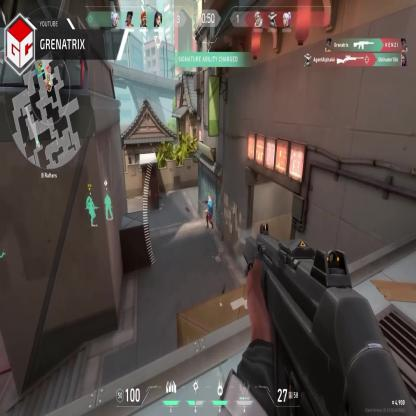enemy: (206, 195, 213, 228)
enemy_head: (208, 196, 211, 201)
